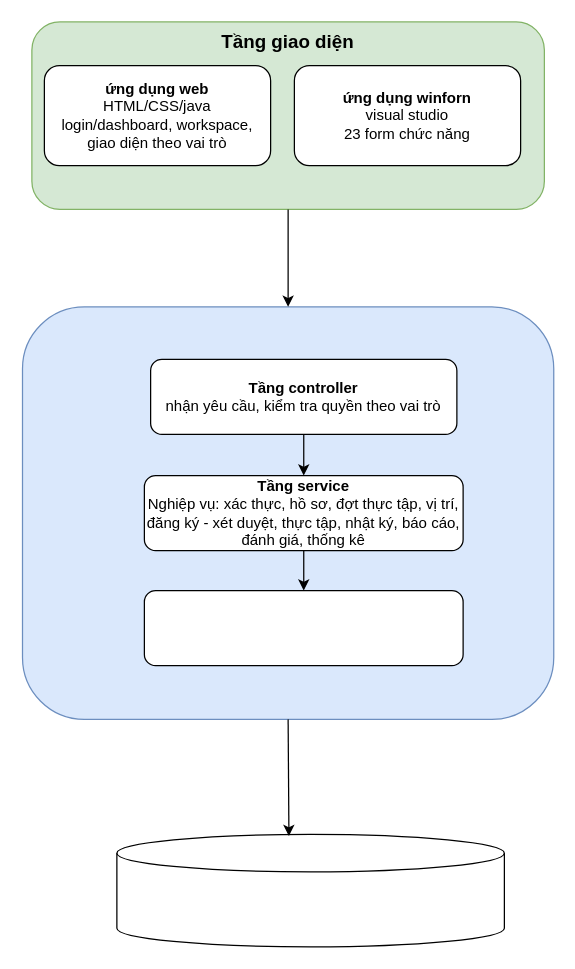
Image size: 575x969. Some labels were removed from this diagram. The shapes that lost their labels are listed below. From the top down, each one's centre as x and y in pixels, then its label:
(x=303, y=627): Tầng repository Truy vấn, thêm, sửa, xóa dữ liệu
(x=310, y=890): sql server cơ sở dữ liệu QLThucTapEDU06
